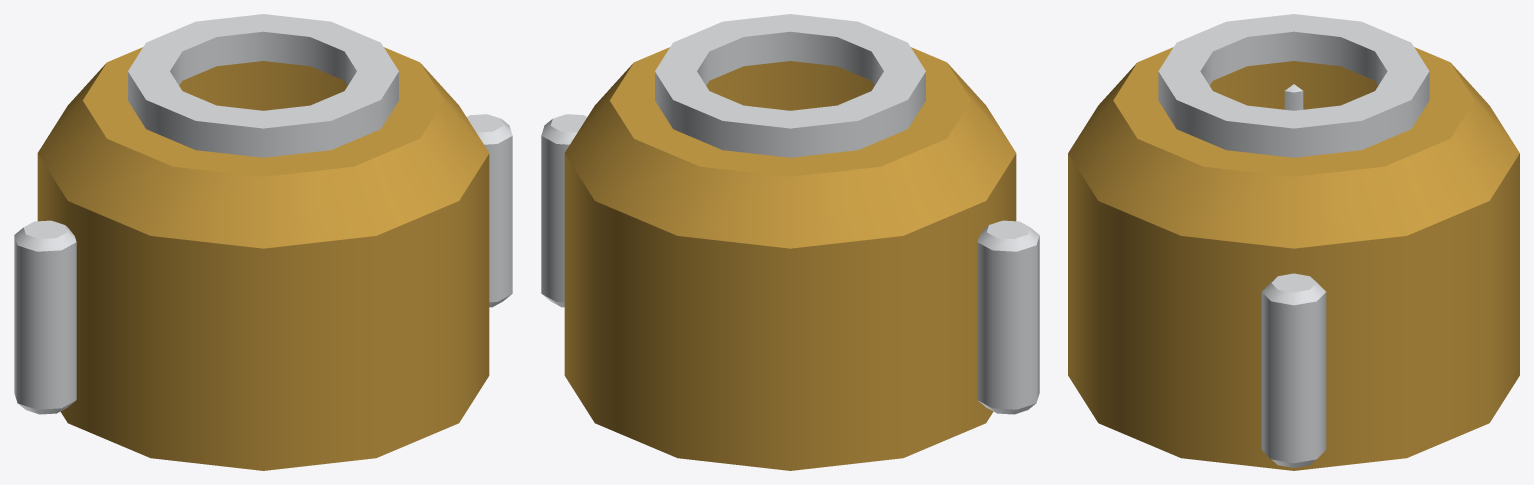
File: sm1_actuator.obj
The picture shows the model from 3 angles, left to right: view 1: azimuth 30°, elevation 25°; view 2: azimuth 150°, elevation 25°; view 3: azimuth 270°, elevation 25°; orthographic projection.
Parts seen in each view (by area): view 1: sm1_actuator; view 2: sm1_actuator; view 3: sm1_actuator.
Boxes of the visible parts, box(x1,y1,x2,y2) form: sm1_actuator: box(14, 14, 512, 470); sm1_actuator: box(541, 14, 1039, 470); sm1_actuator: box(1068, 14, 1519, 470).
Size of the model in its own units: 1.76 by 1.04 by 1.4.
